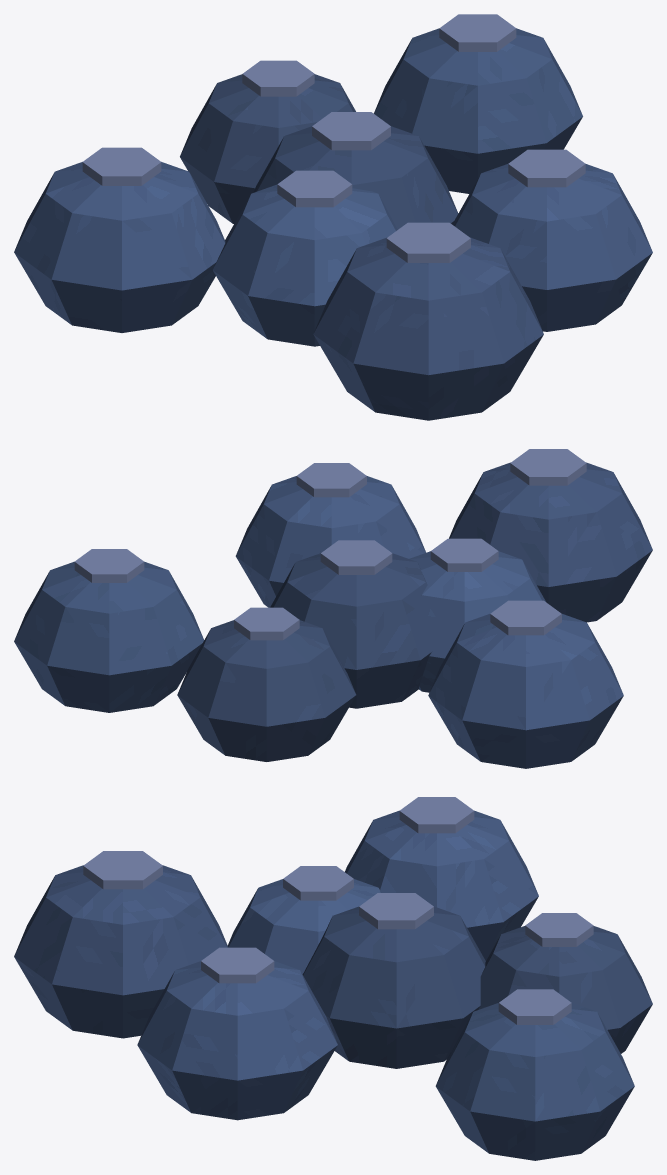
File: huckleberries.glb
3 renders of one model, top to bottom at view 1: azimuth 30°, elevation 25°; view 2: azimuth 150°, elevation 25°; view 3: azimuth 270°, elevation 25°, orthographic. The views are drawn at different scales.
Visible parts, largest first — view 1: block_individual berry (×7), block_dusty blossom crown (×7); view 2: block_individual berry (×7), block_dusty blossom crown (×7); view 3: block_individual berry (×7), block_dusty blossom crown (×7).
Boxes of the visible parts, x1=… form: block_individual berry (×7): x1=14, y1=28, x2=652, y2=420; block_dusty blossom crown (×7): x1=82, y1=14, x2=585, y2=262; block_individual berry (×7): x1=14, y1=462, x2=652, y2=768; block_dusty blossom crown (×7): x1=74, y1=449, x2=586, y2=640; block_individual berry (×7): x1=14, y1=810, x2=652, y2=1160; block_dusty blossom crown (×7): x1=83, y1=797, x2=593, y2=1024.
Size of the model in its own units: 0.1084 by 0.0303 by 0.1074.
1 material, 1 textured.
